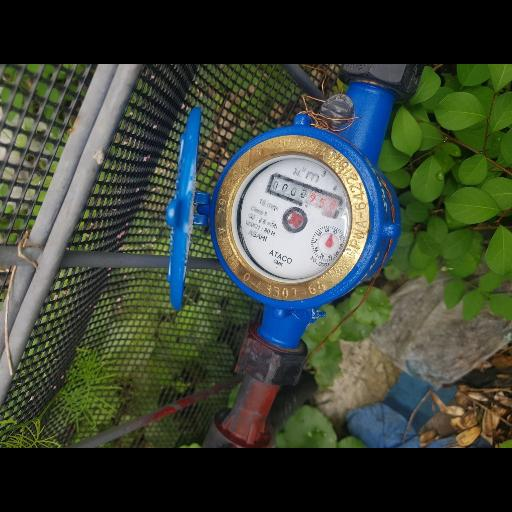0: (295, 185, 311, 204), (287, 182, 302, 200), (269, 176, 283, 193), (278, 180, 292, 197)
5: (314, 192, 330, 211)
8: (321, 196, 339, 218)
9: (305, 189, 321, 208)
border_water_meter_number: (264, 169, 347, 221)
